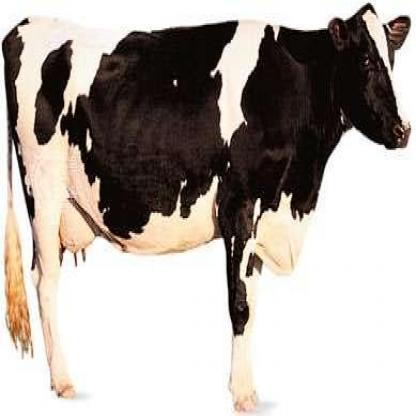cow: (1, 1, 411, 416)
